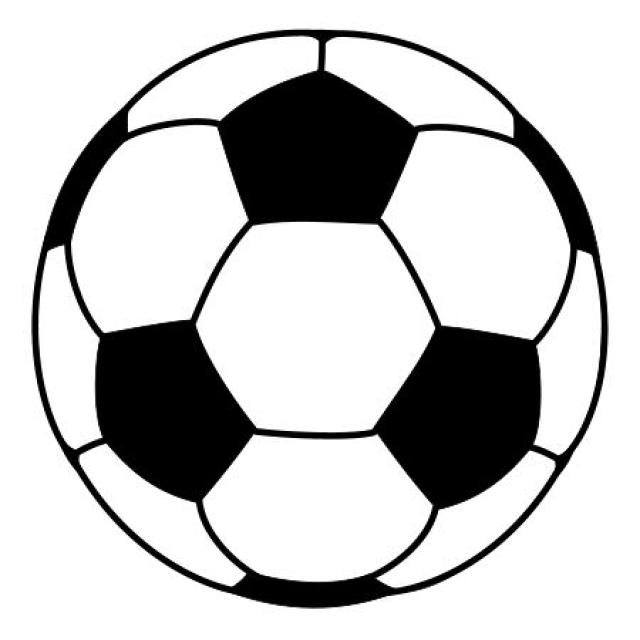soccer ball: (37, 28, 607, 609)
